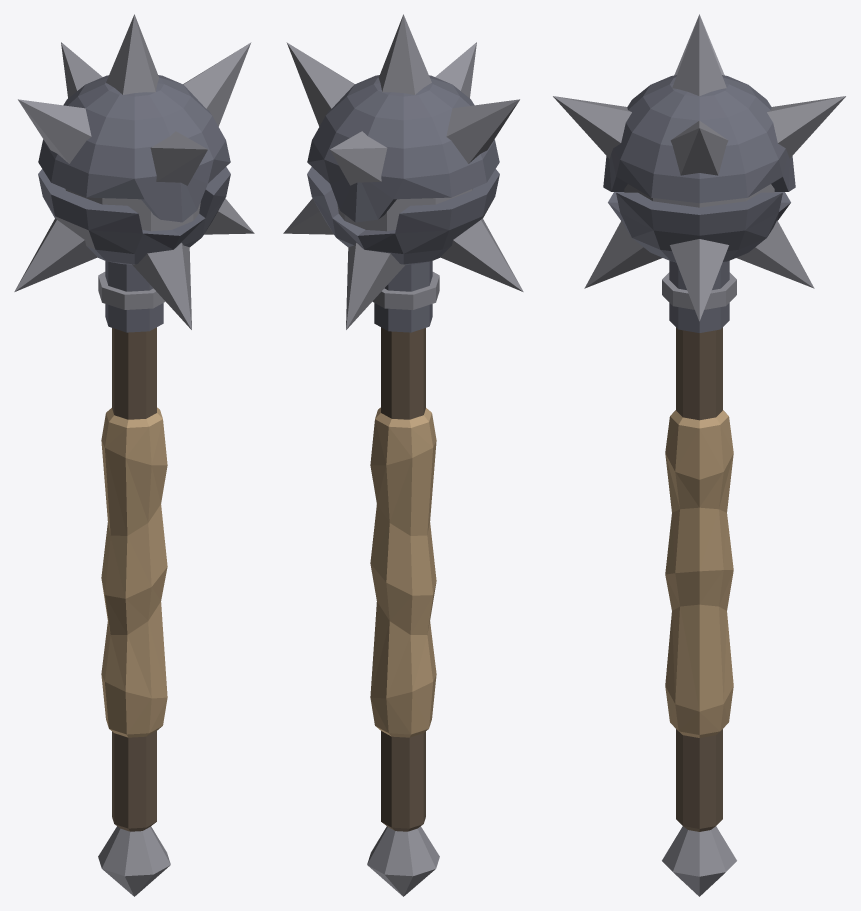
Rendered from hammer_1.glb.
The picture shows the model from 3 angles, left to right: view 1: azimuth 30°, elevation 25°; view 2: azimuth 150°, elevation 25°; view 3: azimuth 270°, elevation 25°; orthographic projection.
Parts seen in each view (by area): view 1: hammer_1; view 2: hammer_1; view 3: hammer_1.
Part boxes in pixels (box(x1,y1,x2,y2)): hammer_1: box(14, 14, 254, 896); hammer_1: box(283, 14, 523, 896); hammer_1: box(553, 14, 845, 896).
Size of the model in its own units: 0.2323 by 0.8137 by 0.2459.
1 material, 1 textured.
